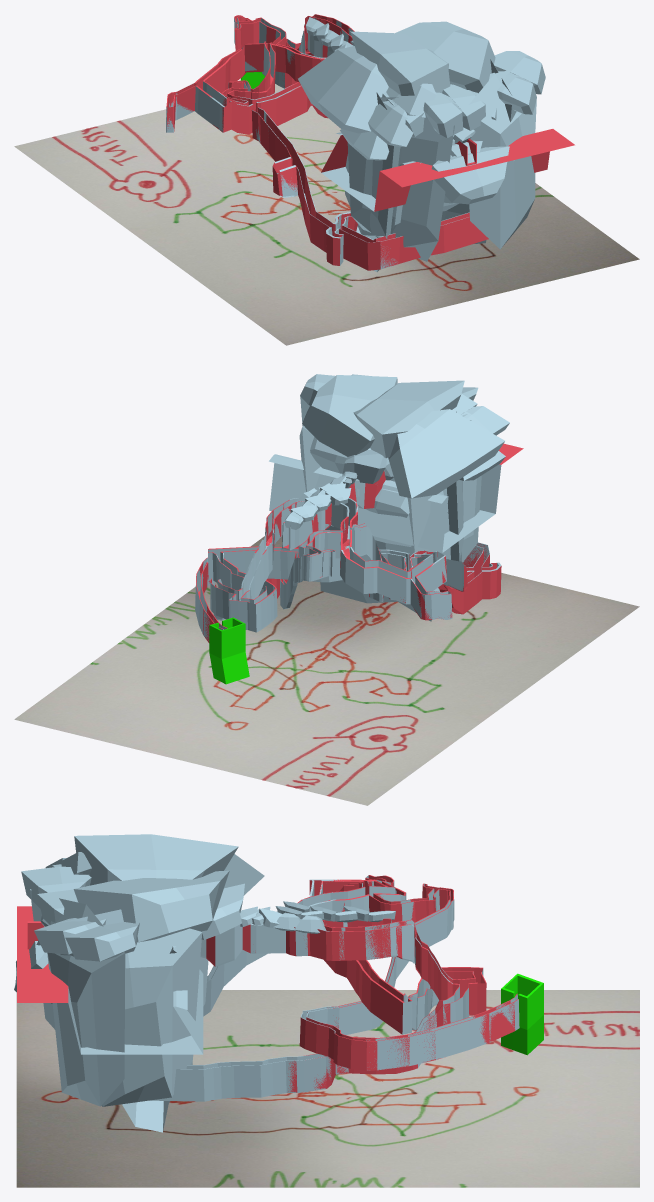
File: klippeLabyrint_level01.glb
The picture shows the model from 3 angles, top to bottom: view 1: azimuth 30°, elevation 25°; view 2: azimuth 150°, elevation 25°; view 3: azimuth 270°, elevation 25°; orthographic projection. The views are drawn at different scales.
Parts seen in each view (by area): view 1: graybox-col, whitebox; view 2: graybox-col, whitebox; view 3: graybox-col, whitebox.
Part boxes in pixels (x1,y1,x2,y2): graybox-col: (14,14,639,345); whitebox: (166,17,545,271); graybox-col: (14,443,639,805); whitebox: (195,374,509,641); graybox-col: (16,875,639,1187); whitebox: (14,834,519,1132).
Bounding box in the file's own units: 154 × 88.42 × 206.
Materials: 7 (1 with a texture image).
